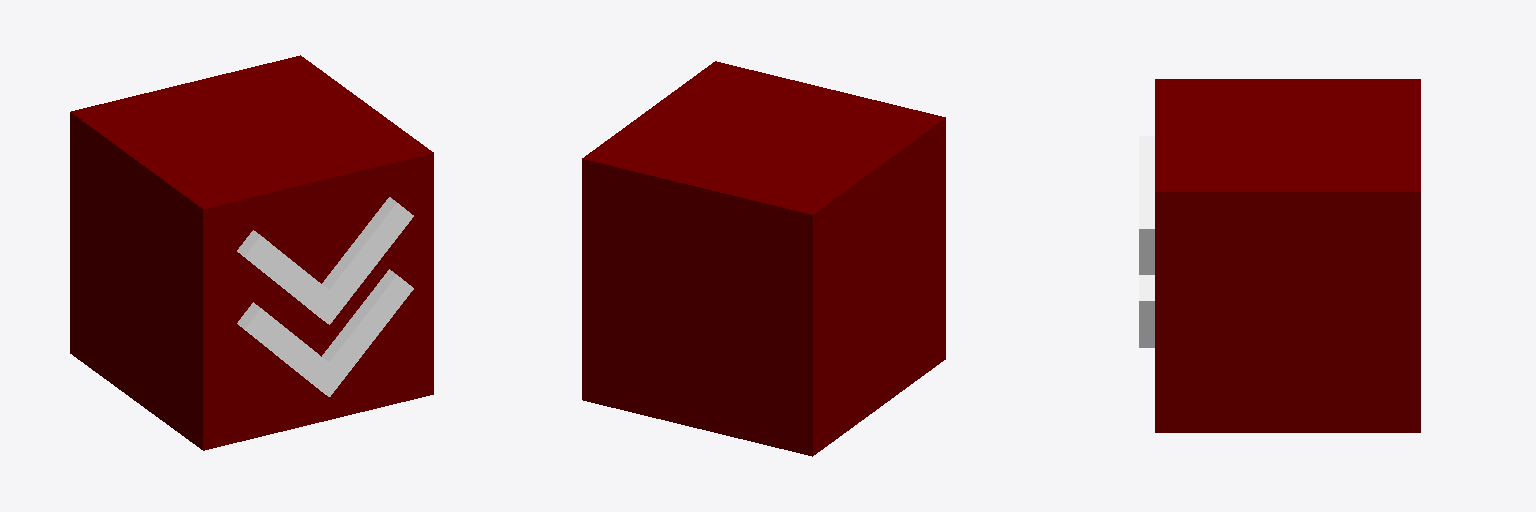
3 views of the same model, side by side, from view 1: azimuth 30°, elevation 25°; view 2: azimuth 150°, elevation 25°; view 3: azimuth 270°, elevation 25° (orthographic).
Visible parts, largest first — view 1: Cube, Cube.002; view 2: Cube; view 3: Cube, Cube.002.
Boxes of the visible parts, x1=… form: Cube: x1=70, y1=55, x2=433, y2=450; Cube.002: x1=237, y1=197, x2=413, y2=396; Cube: x1=582, y1=61, x2=945, y2=456; Cube: x1=1155, y1=79, x2=1420, y2=432; Cube.002: x1=1139, y1=136, x2=1154, y2=347.
Bounding box in the file's own units: 2 × 2 × 2.12.
2 materials, 1 textured.